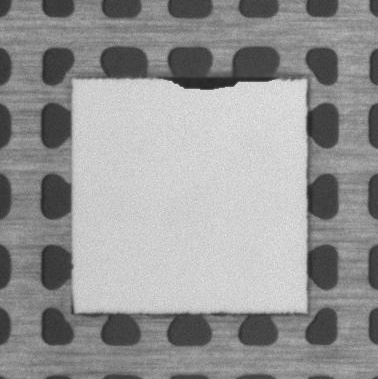DIE_BROKEN: (162, 71, 278, 91)
